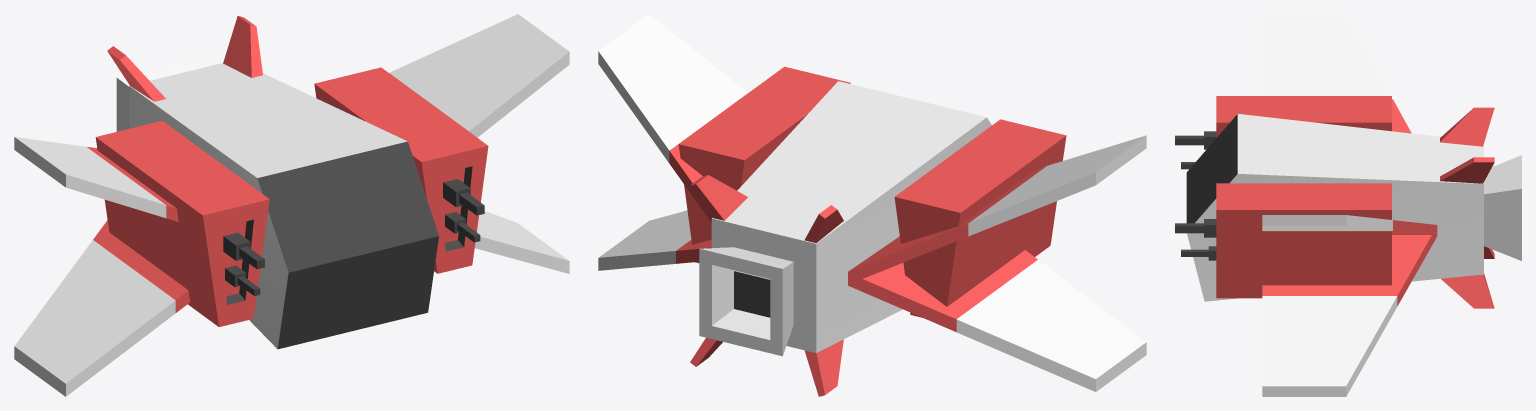
Rendered from Spaceship5.glb.
The picture shows the model from 3 angles, left to right: view 1: azimuth 30°, elevation 25°; view 2: azimuth 150°, elevation 25°; view 3: azimuth 270°, elevation 25°; orthographic projection. The views are drawn at different scales.
Parts seen in each view (by area): view 1: Lo_poly_Spaceship_02_by_Liz_Reddington; view 2: Lo_poly_Spaceship_02_by_Liz_Reddington; view 3: Lo_poly_Spaceship_02_by_Liz_Reddington.
Part boxes in pixels (x1,y1,x2,y2): Lo_poly_Spaceship_02_by_Liz_Reddington: (14,14,569,396); Lo_poly_Spaceship_02_by_Liz_Reddington: (598,14,1146,396); Lo_poly_Spaceship_02_by_Liz_Reddington: (1175,14,1521,396).
Bounding box in the file's own units: 456 × 192 × 332.
